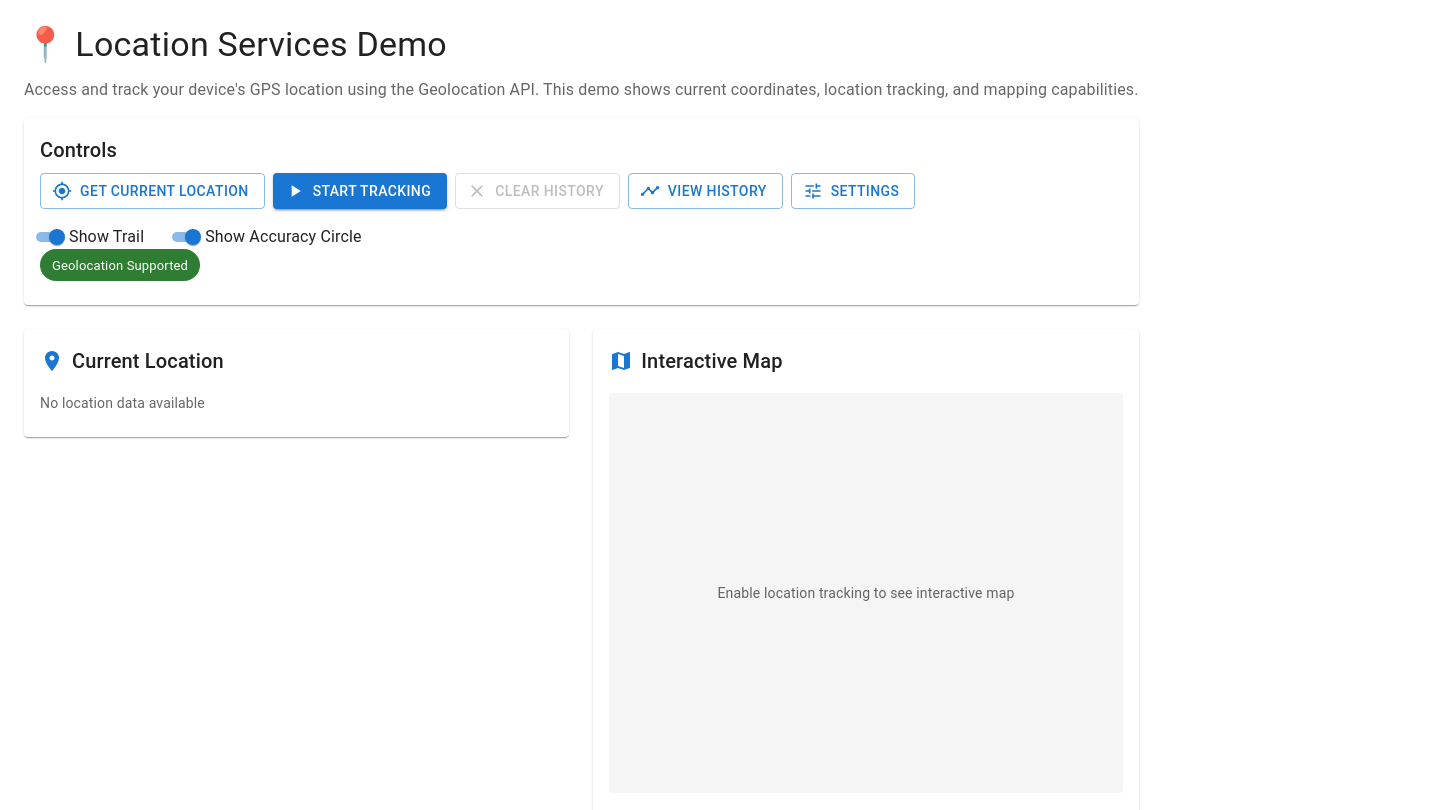
Test: LocationDemo Integration Tests › opens and closes settings dialog
This screenshot has width=1440, height=810.
Step 1. Click the button "Settings" → (853, 191), box [791,173,915,209]
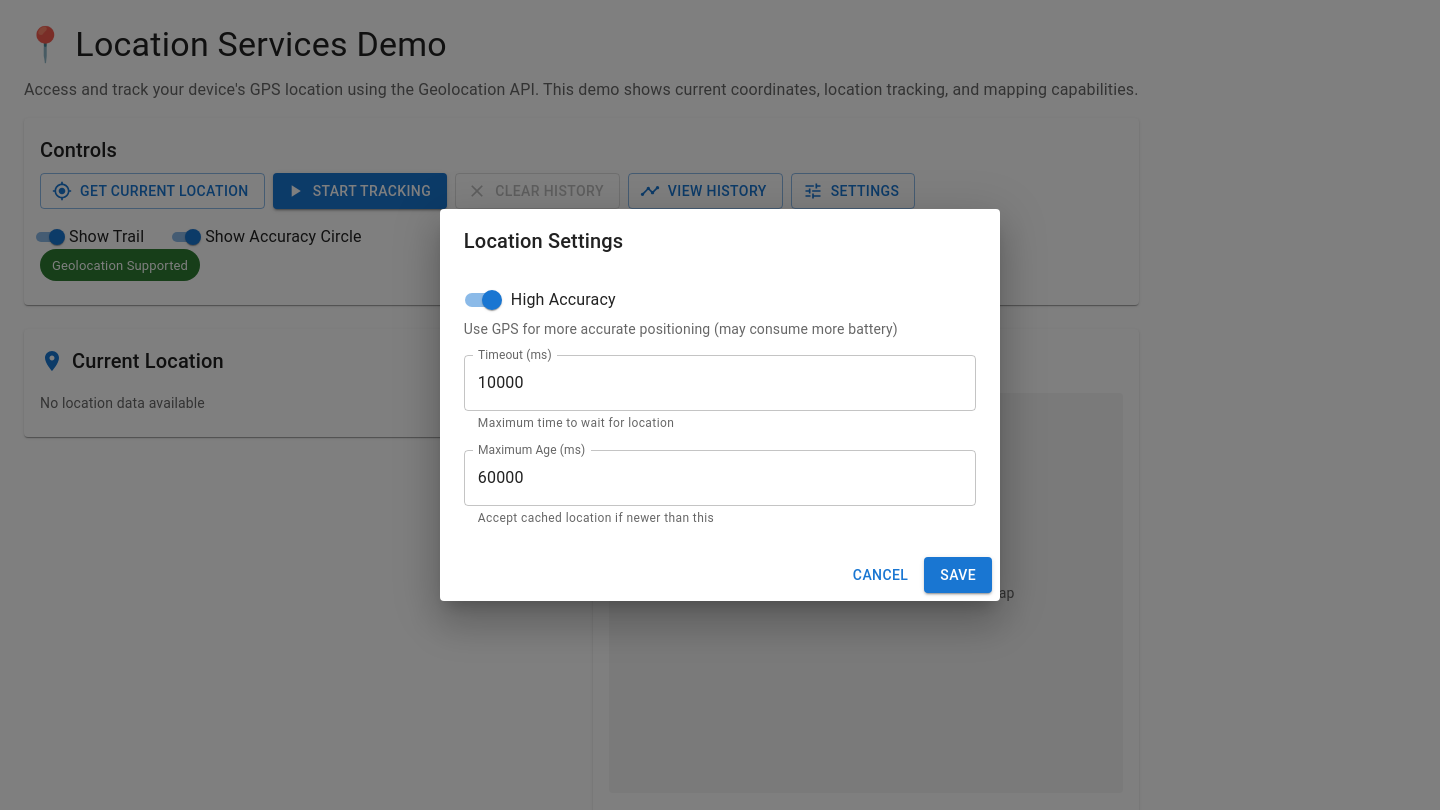
Result: the heading "Location Settings" is shown at [464,229,623,253]
Result: the checkbox labelled "High Accuracy" is shown at [465,290,616,310]
Step 2. Click the button "Cancel" → (881, 575), box [845,557,916,593]
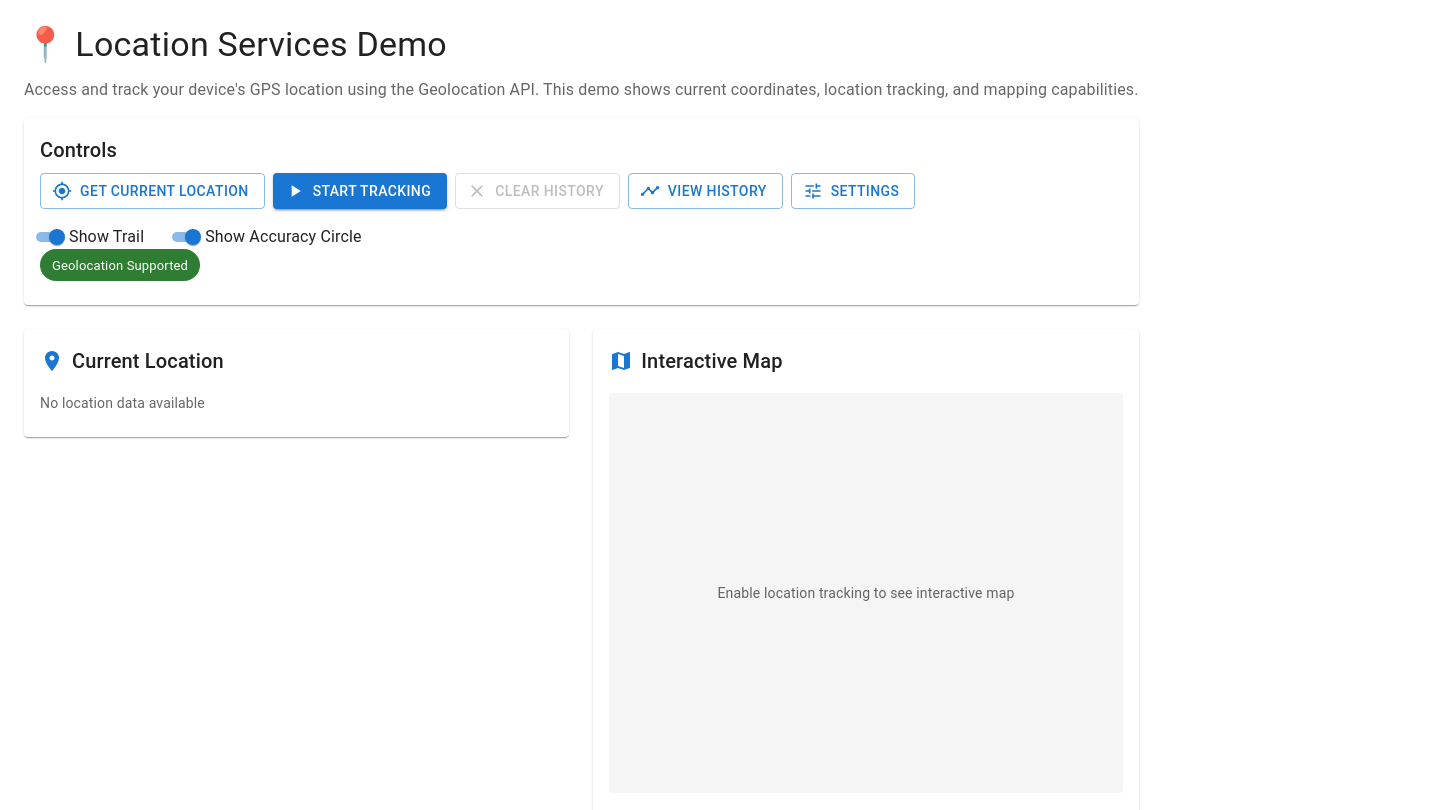
Result: the heading "Location Settings" is gone
